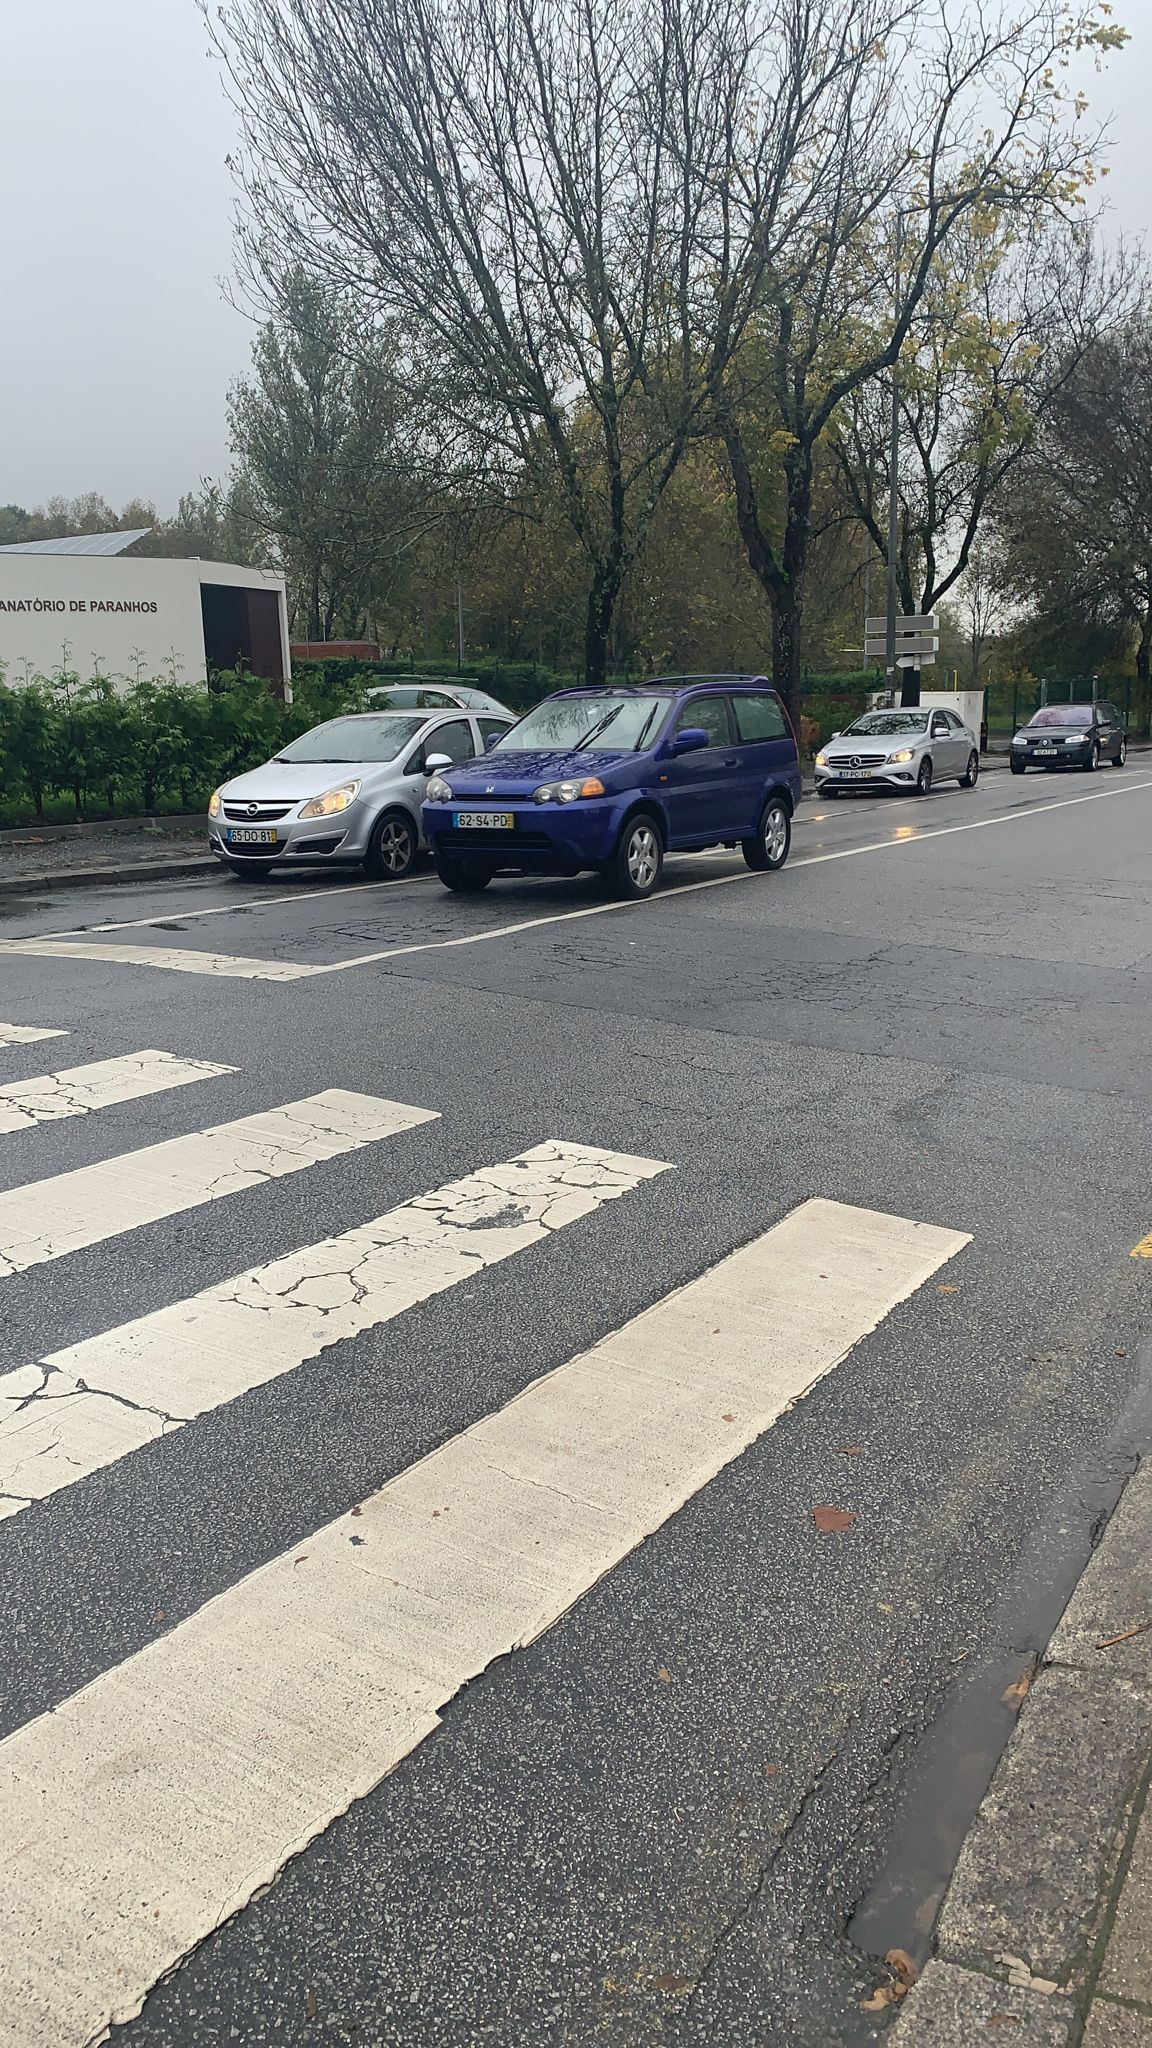carplate: (455, 810, 527, 838), (217, 825, 286, 852), (829, 766, 880, 787), (1029, 745, 1066, 761)
